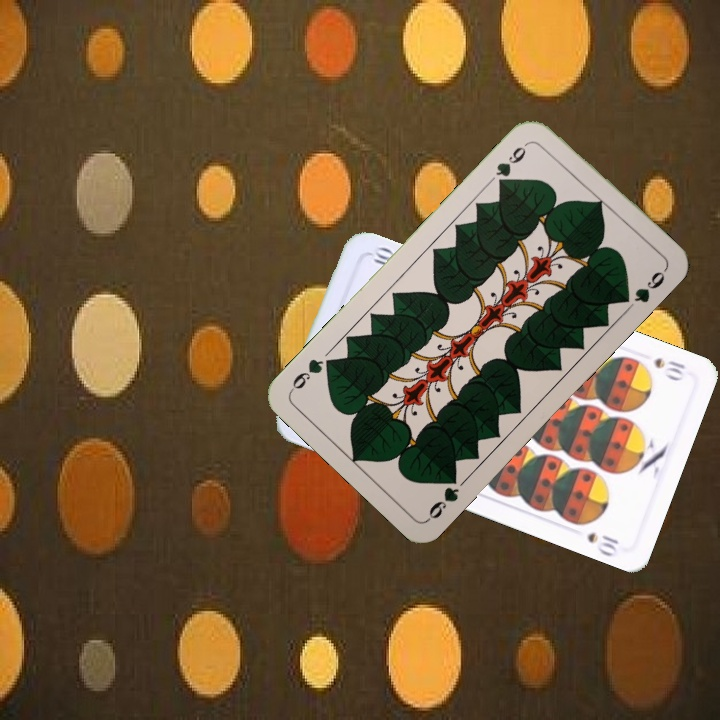G9: (492, 137, 533, 189), (424, 469, 462, 523)
S10: (650, 353, 688, 384)
